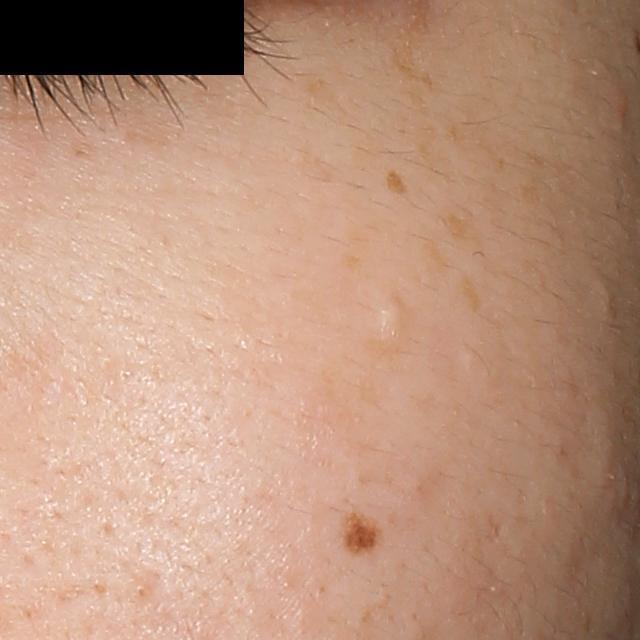comedo: (368, 288, 409, 342)
melasma: (452, 270, 483, 314)
nevus: (339, 511, 382, 557)
